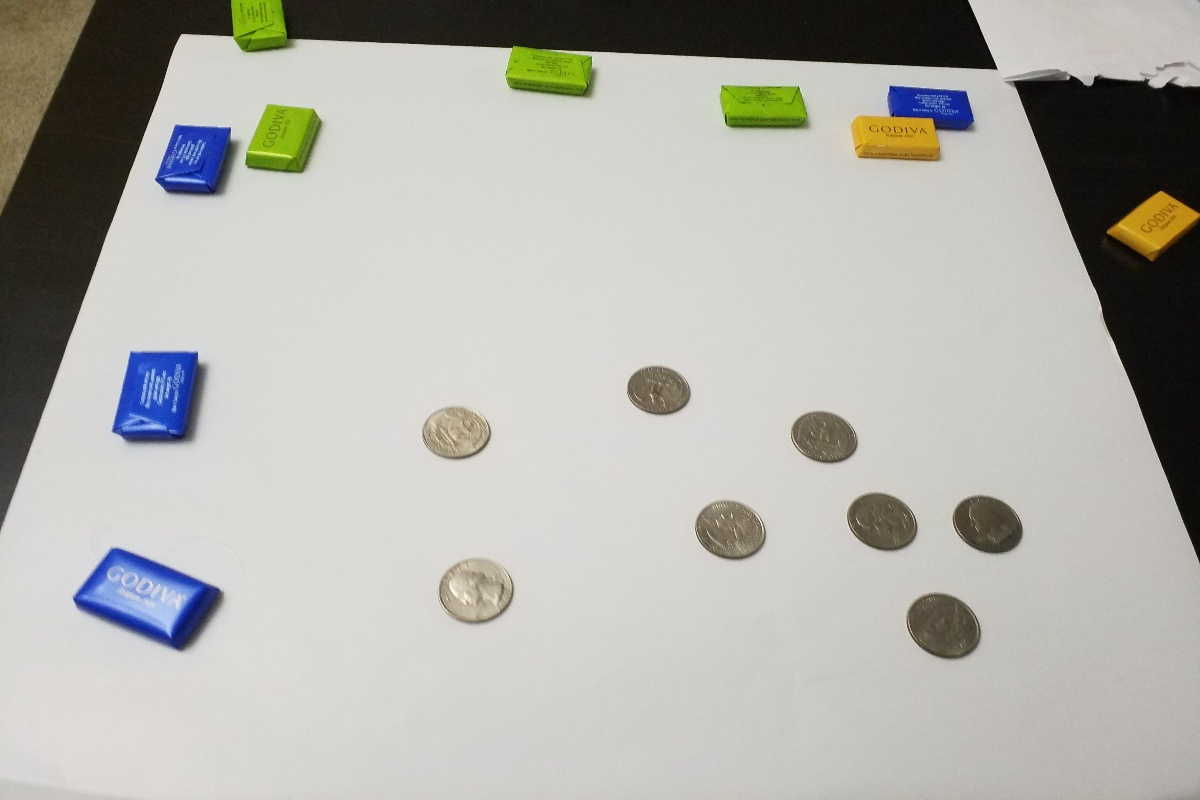chocolate_blue: (69, 539, 222, 658), (111, 342, 202, 451), (156, 115, 234, 200), (883, 82, 978, 134)
chocolate_green: (234, 93, 328, 182), (708, 76, 813, 138), (499, 44, 607, 103)
chocolate_yellow: (848, 115, 945, 164)
coin_quarter: (899, 585, 992, 666), (432, 553, 523, 631), (944, 488, 1029, 566), (837, 484, 921, 559), (411, 396, 497, 468), (689, 493, 772, 566), (616, 356, 699, 423), (787, 406, 865, 469)
